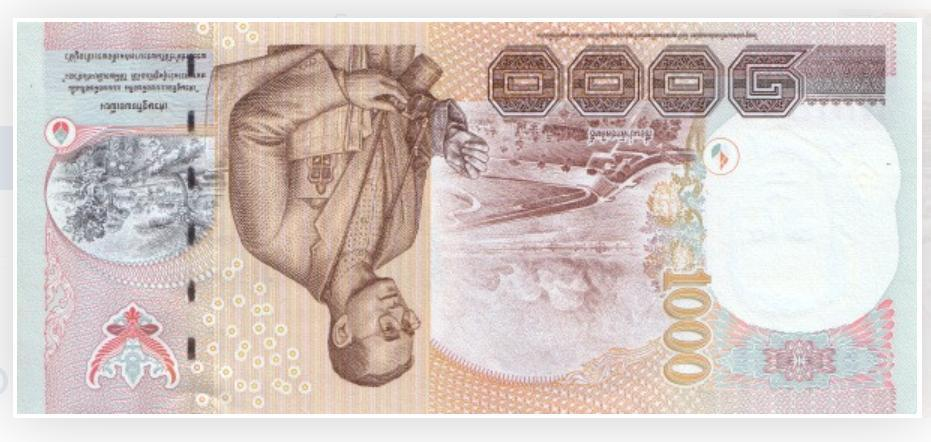1000BahtTai: (22, 21, 918, 413)
